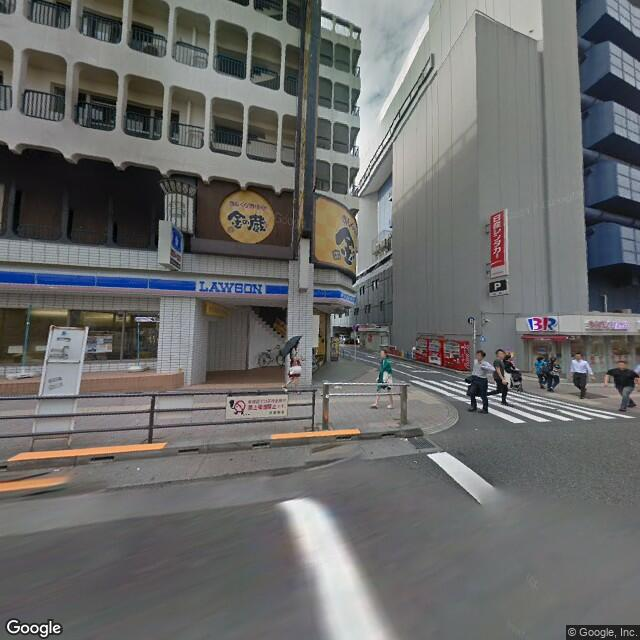lawson: (1, 261, 289, 302)
